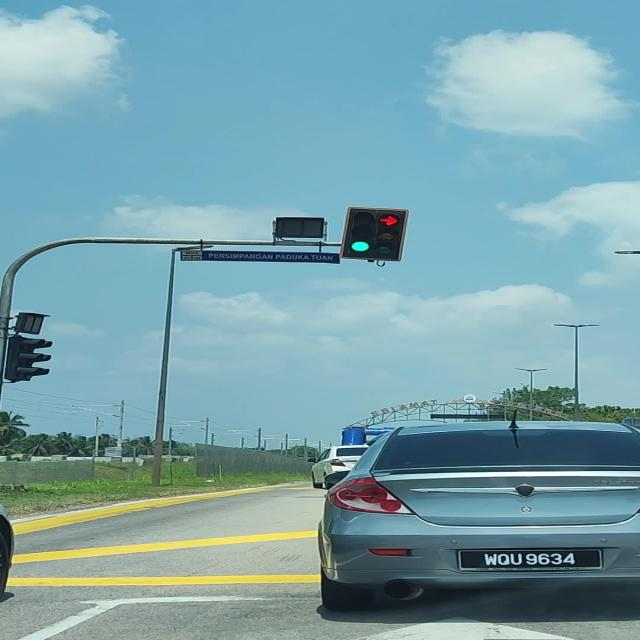car: (316, 419, 640, 611), (310, 444, 370, 490)
traffic light: (340, 207, 409, 262), (5, 335, 53, 383)
